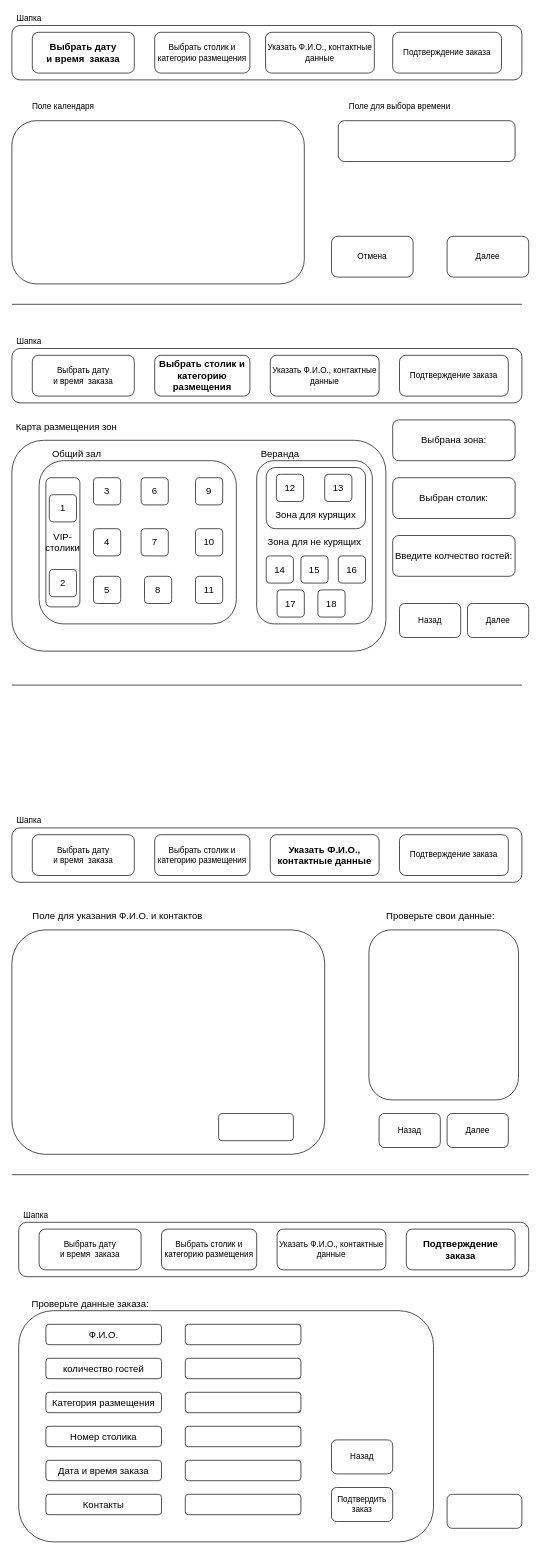
Image size: 541x1554. Some labels were removed from this diagram. The centre of each missing label's shape, as x and y in pixels:
Отменить заказ: the point at 484,1511
Подтвердить данные: the point at 255,1127
